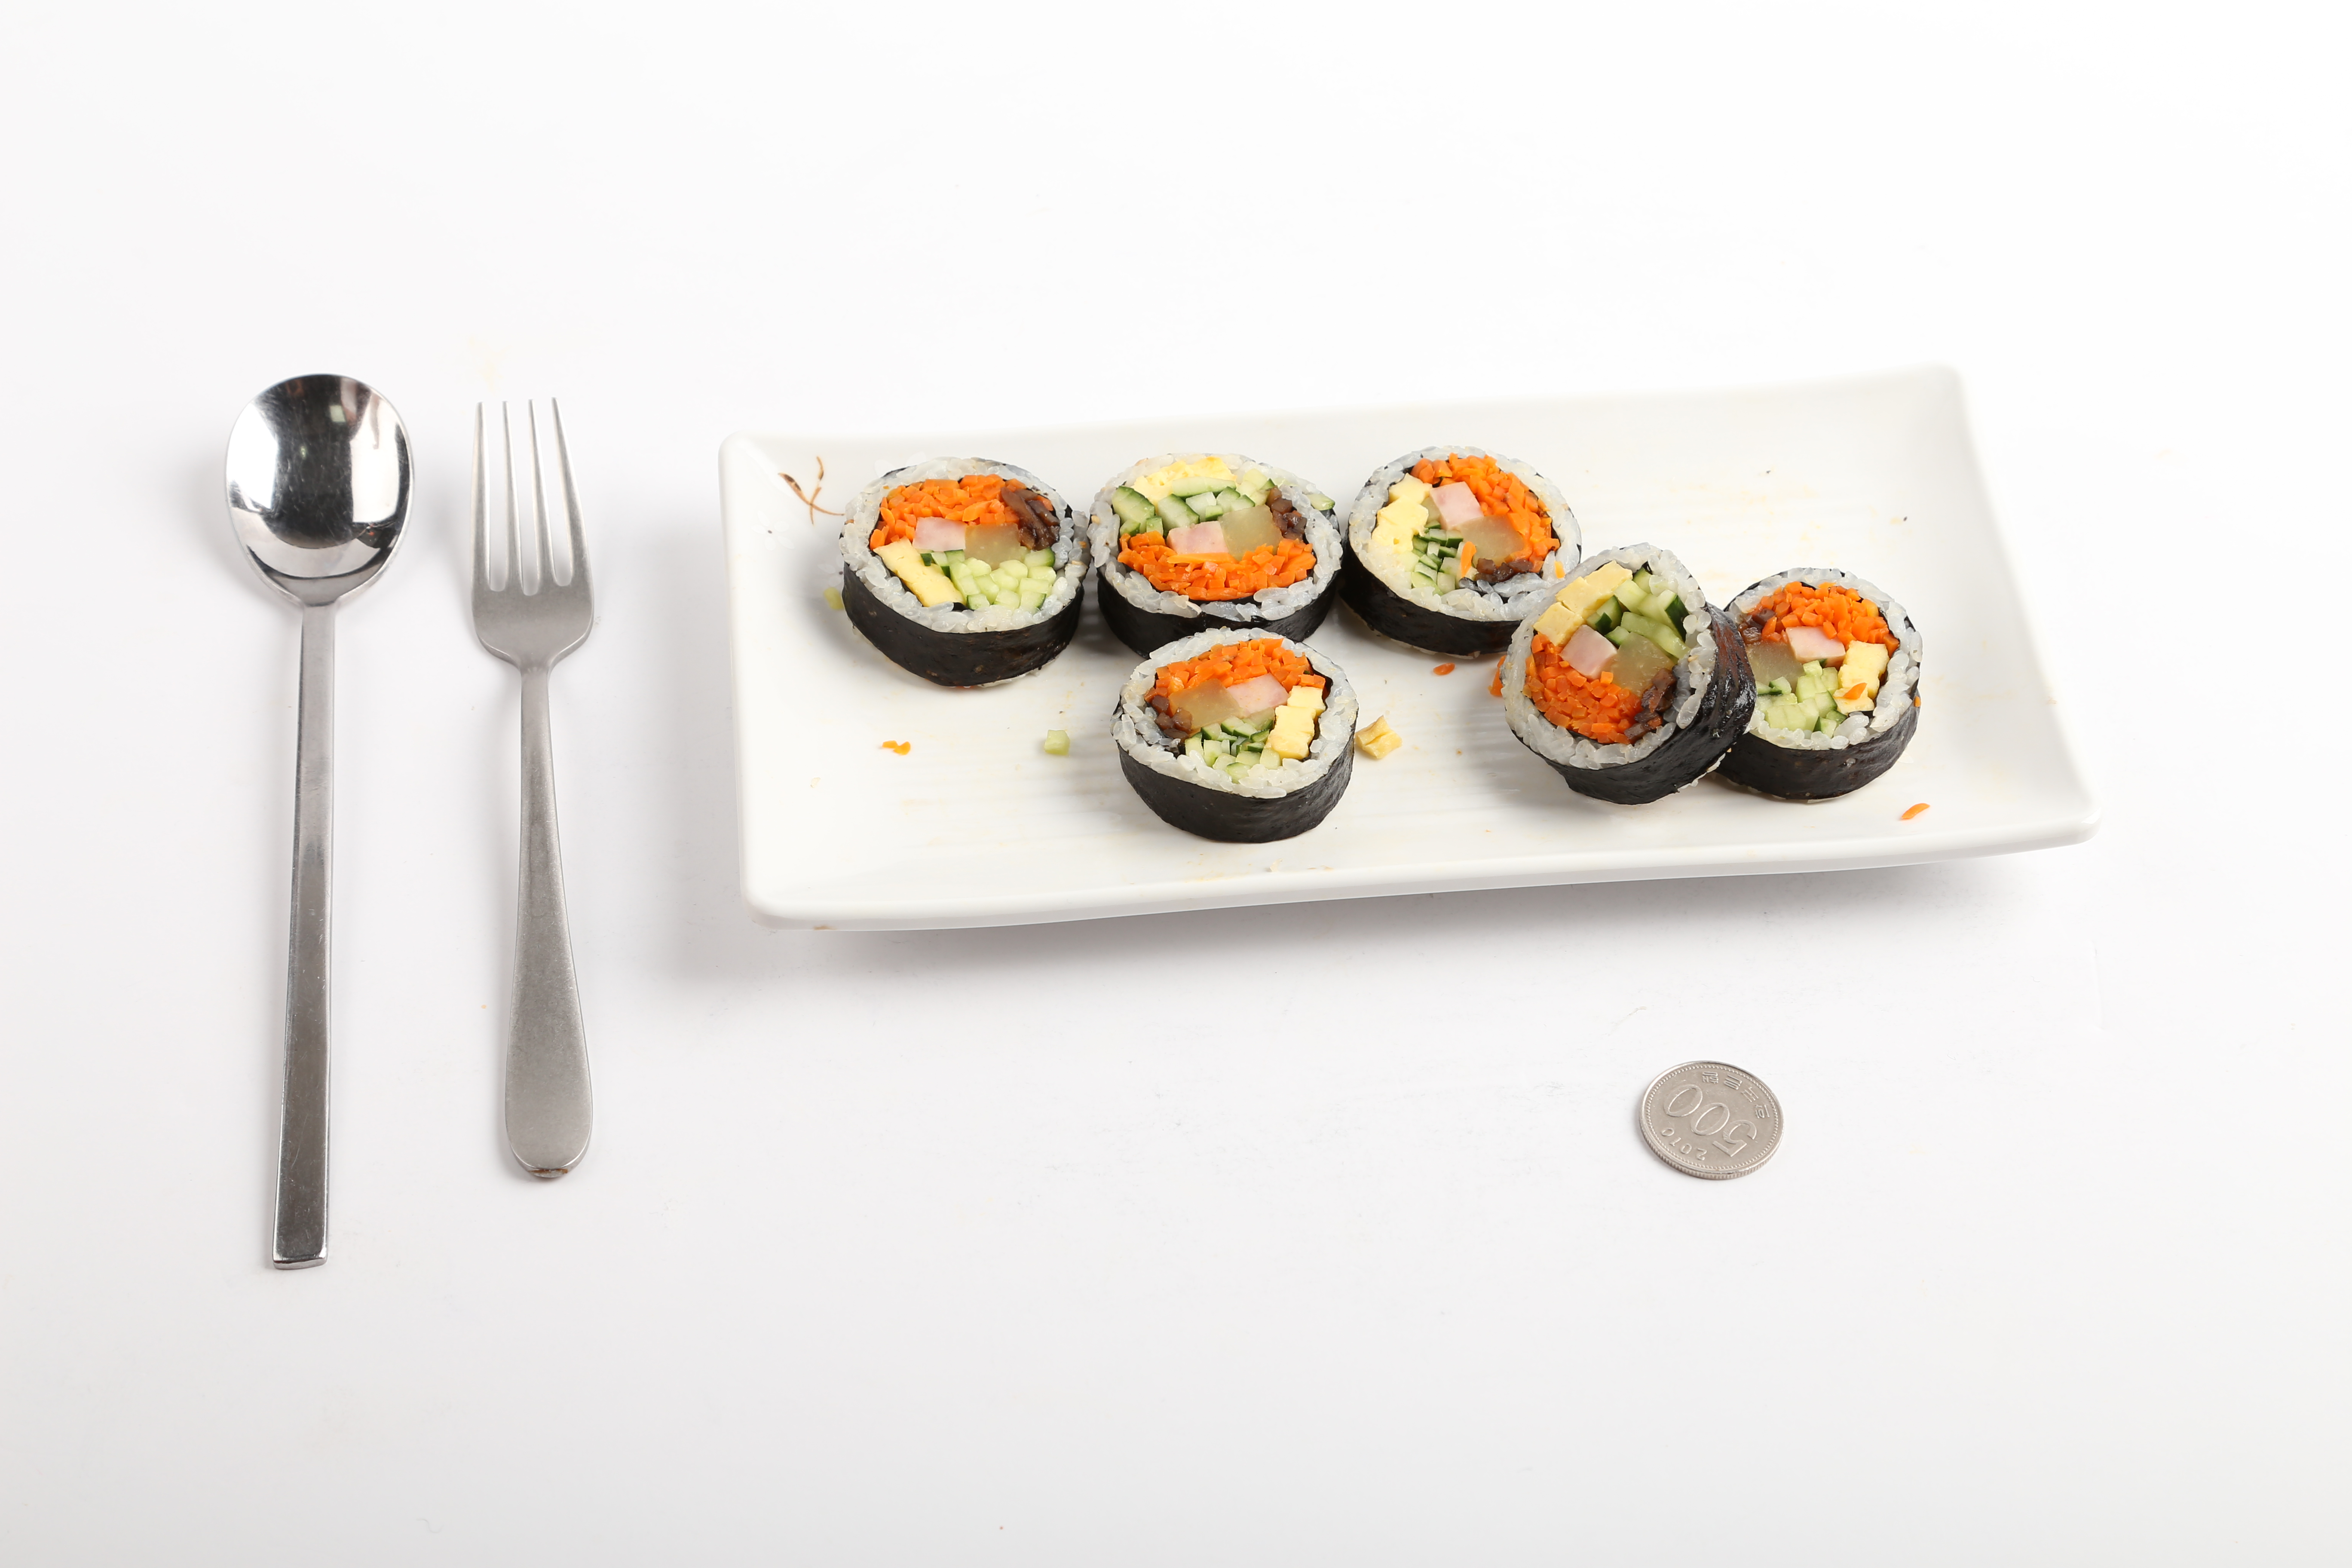dish: (710, 364, 2112, 936)
ref_coin: (1631, 1059, 1792, 1188)
ref_fork: (460, 397, 597, 742)
ref_spoon: (219, 371, 413, 675)
김밥: (836, 436, 1923, 847)
